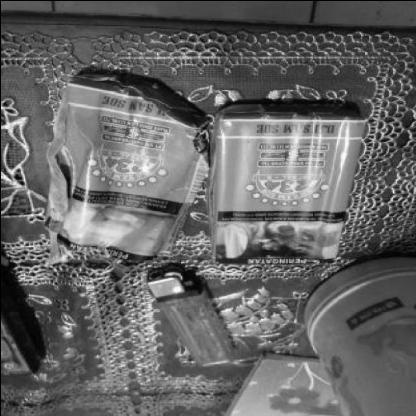objects: (44, 73, 206, 263), (206, 102, 364, 264)
